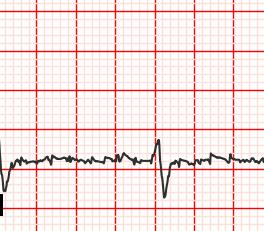Poor R Progression: (149, 138, 166, 166)
ST Depression: (147, 158, 178, 200)
